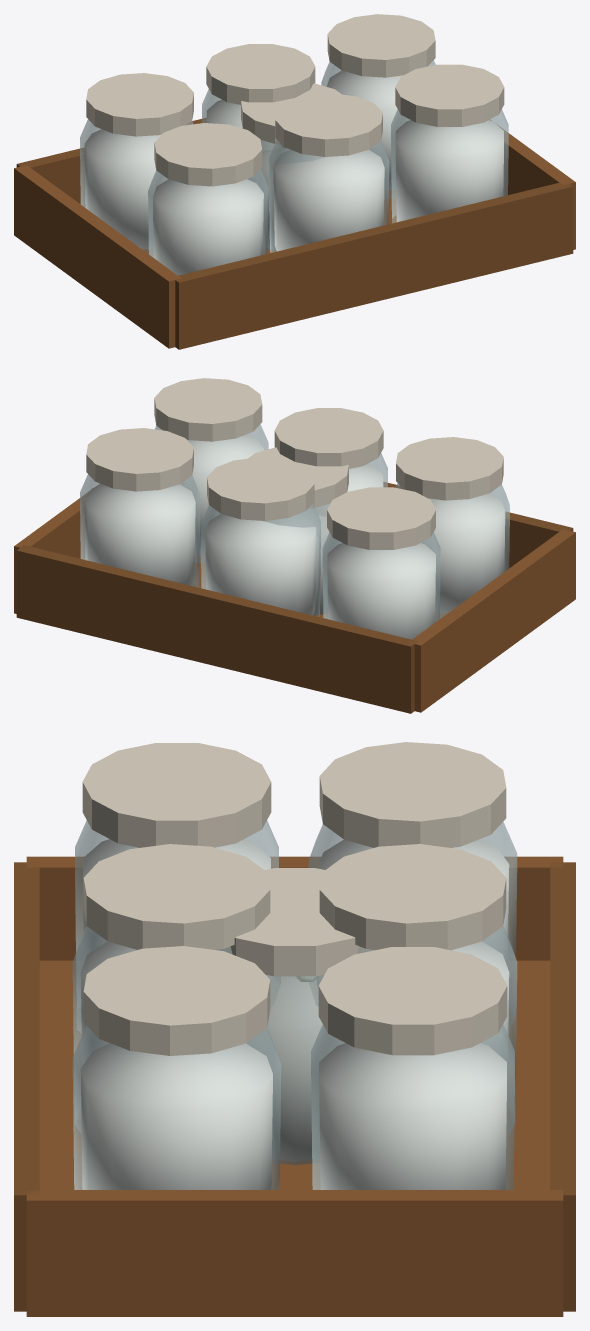
File: Proc_Cream.fbx
3 views of the same model, one above another, from view 1: azimuth 30°, elevation 25°; view 2: azimuth 150°, elevation 25°; view 3: azimuth 270°, elevation 25° (orthographic). The views are drawn at different scales.
Visible parts, largest first — view 1: Proc_Cream__Stack, Proc_Cream, Proc_Cream__Rotten; view 2: Proc_Cream__Stack, Proc_Cream, Proc_Cream__Rotten; view 3: Proc_Cream__Stack, Proc_Cream, Proc_Cream__Rotten.
Boxes of the visible parts, <box> form: Proc_Cream__Stack: <box>14,14,575,349</box>; Proc_Cream: <box>241,83,341,251</box>; Proc_Cream__Rotten: <box>261,140,286,250</box>; Proc_Cream__Stack: <box>14,378,575,713</box>; Proc_Cream: <box>248,447,348,615</box>; Proc_Cream__Rotten: <box>315,504,329,614</box>; Proc_Cream__Stack: <box>14,742,575,1316</box>; Proc_Cream: <box>216,868,375,1165</box>; Proc_Cream__Rotten: <box>266,975,323,1164</box>.
Size of the model in its own units: 0.2538 by 0.0899 by 0.1753.
